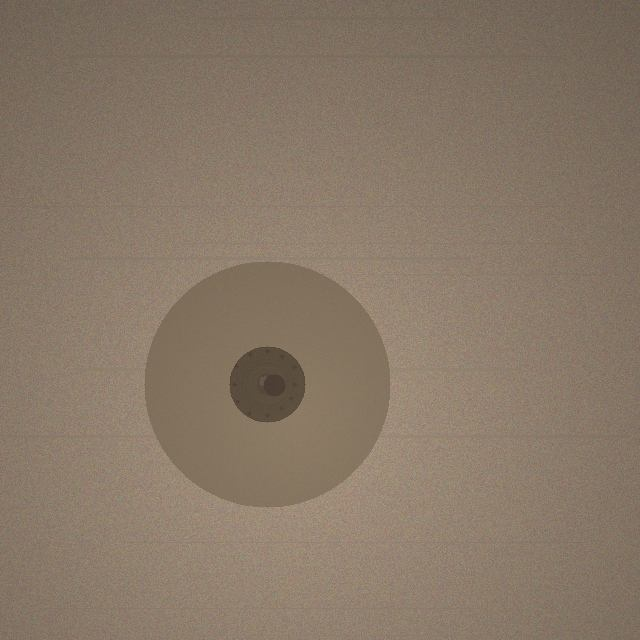cold_weld: (144, 261, 390, 507)
